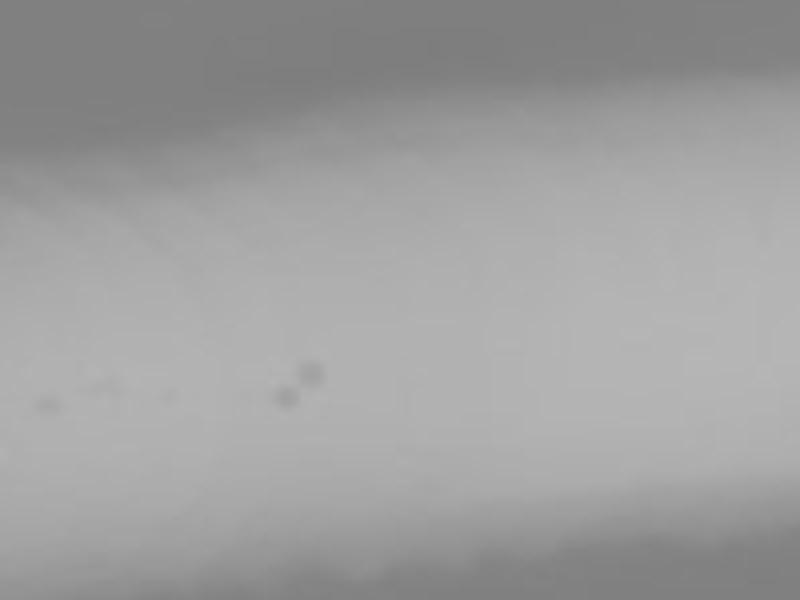defect: (295, 358, 328, 386), (270, 382, 300, 411), (32, 390, 60, 409)
